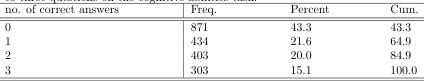table: (4, 3, 417, 75)
table column: (4, 3, 153, 75), (252, 3, 358, 75), (153, 3, 252, 75), (358, 3, 417, 75)
table column header: (4, 3, 417, 18)
table row: (4, 18, 417, 34), (4, 3, 417, 18), (4, 34, 417, 48), (4, 48, 417, 62), (4, 62, 417, 75)
